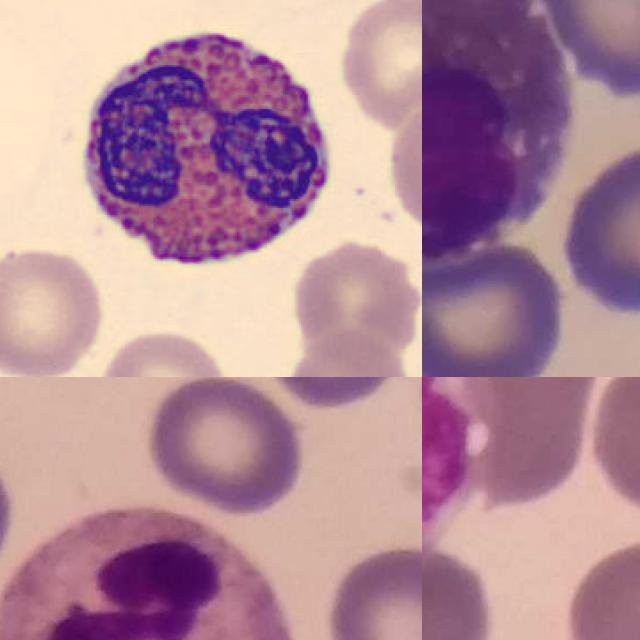Eosinophil: (66, 12, 345, 286), (422, 0, 577, 259)
Neutrophil: (0, 507, 292, 640)
RBC: (288, 234, 422, 361), (0, 242, 108, 377), (332, 0, 422, 124), (96, 324, 234, 377), (282, 331, 416, 377), (384, 89, 422, 248)
